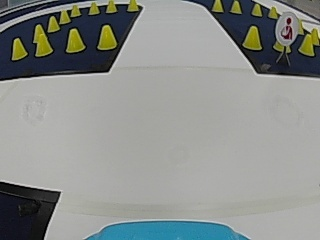cone: (34, 26, 52, 55), (97, 24, 117, 50), (66, 28, 86, 52), (242, 26, 262, 50), (11, 37, 27, 59), (300, 35, 314, 55), (47, 15, 60, 31), (88, 2, 100, 15), (230, 1, 242, 14), (105, 0, 117, 13), (59, 9, 70, 23), (126, 0, 138, 12), (211, 0, 223, 12), (251, 3, 262, 16), (70, 4, 81, 16), (267, 6, 278, 18)
patient: (277, 12, 295, 44)
